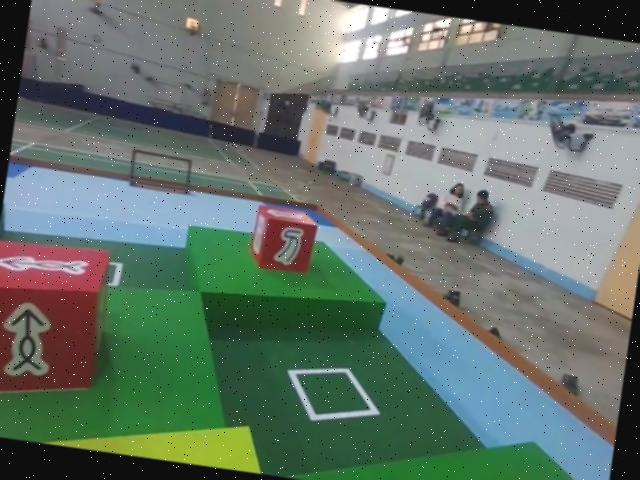R2 Fake: (246, 205, 318, 274)
R2 Real: (0, 233, 115, 411)
